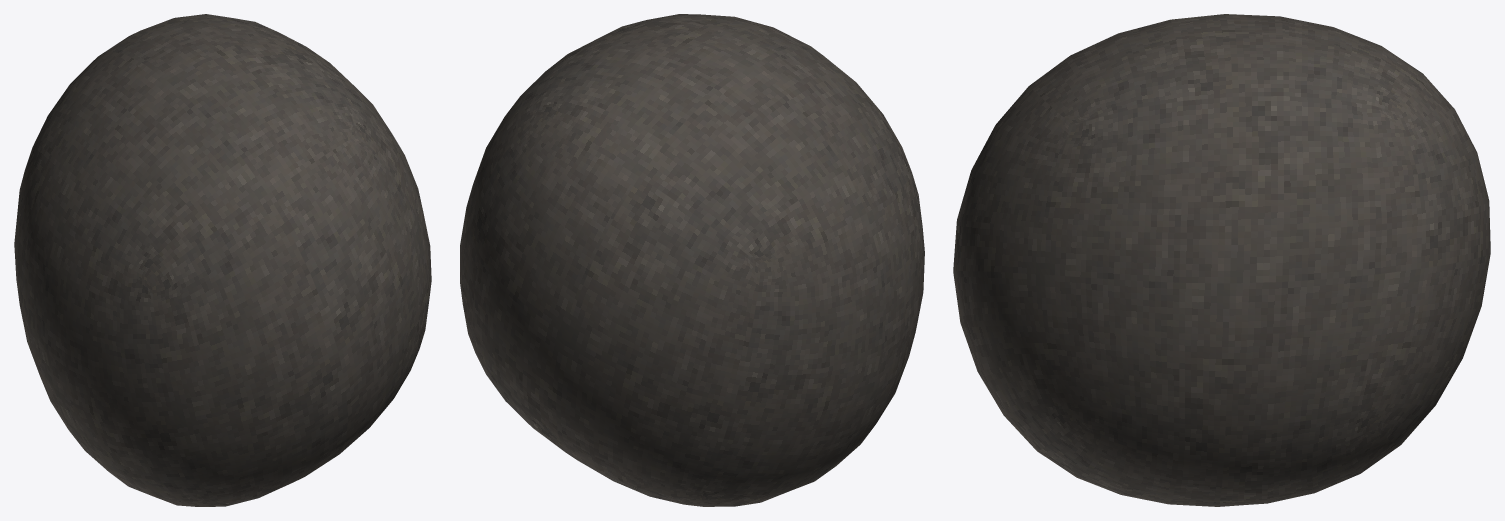
File: rock1.glb
3 renders of one model, left to right at view 1: azimuth 30°, elevation 25°; view 2: azimuth 150°, elevation 25°; view 3: azimuth 270°, elevation 25°, orthographic. The views are drawn at different scales.
Parts seen in each view (by area): view 1: Rock1; view 2: Rock1; view 3: Rock1.
Part boxes in pixels (x1,y1,x2,y2): Rock1: (14, 14, 431, 506); Rock1: (460, 14, 924, 506); Rock1: (953, 14, 1490, 506).
Size of the model in its own units: 5.14 by 5.67 by 5.82.
1 material, 1 textured.
